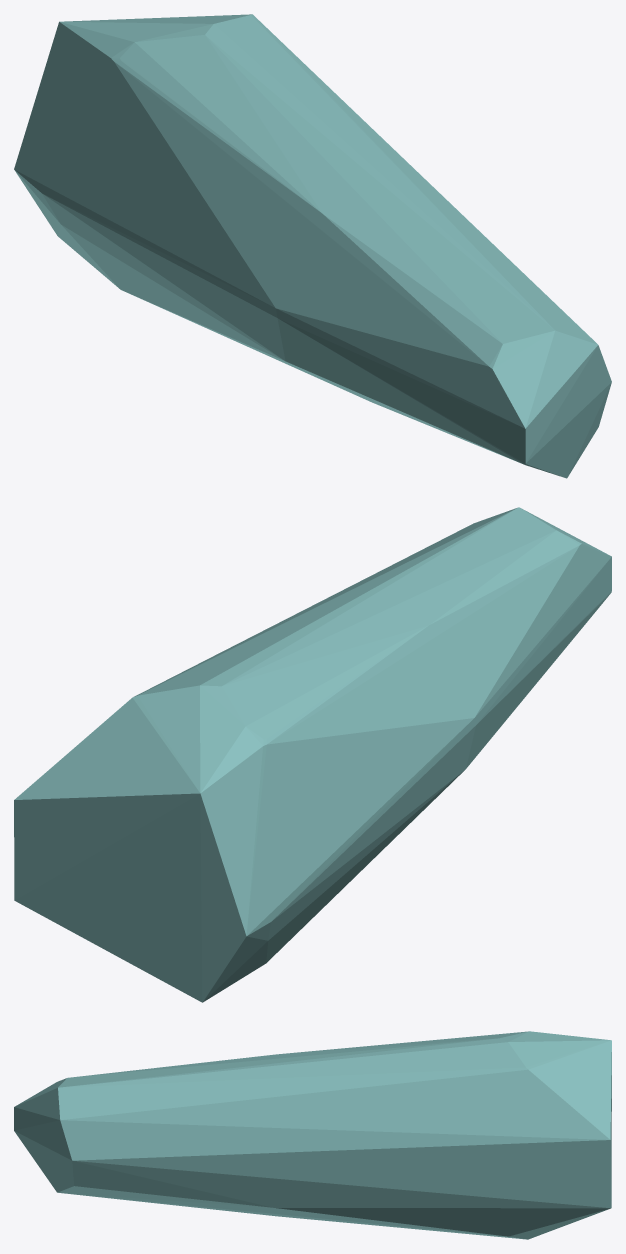
File: lamp_uvc_robot_a01.glb
3 renders of one model, top to bottom at view 1: azimuth 30°, elevation 25°; view 2: azimuth 150°, elevation 25°; view 3: azimuth 270°, elevation 25°, orthographic. The views are drawn at different scales.
Visible parts, largest first — view 1: geometry_0; view 2: geometry_0; view 3: geometry_0.
Part boxes in pixels (x1,y1,x2,y2): geometry_0: (14, 14, 611, 478); geometry_0: (14, 507, 611, 1002); geometry_0: (14, 1031, 611, 1239).
Size of the model in its own units: 0.1405 by 0.1595 by 0.4538.
